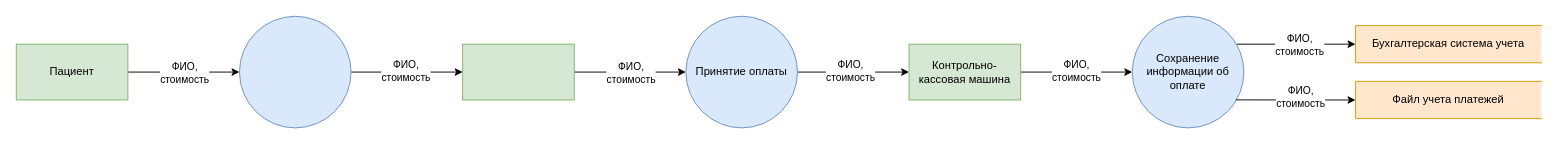
The diagram is 1558 pixels wide and 144 high, and some of its shapes have lost their labels. The shapes that lost their labels are listed below. From the top down, each one's centre as x and y in pixels, then its label:
At pixel 295 71: "Оплата медицинских услуг".
At pixel 518 71: "Кассир".
